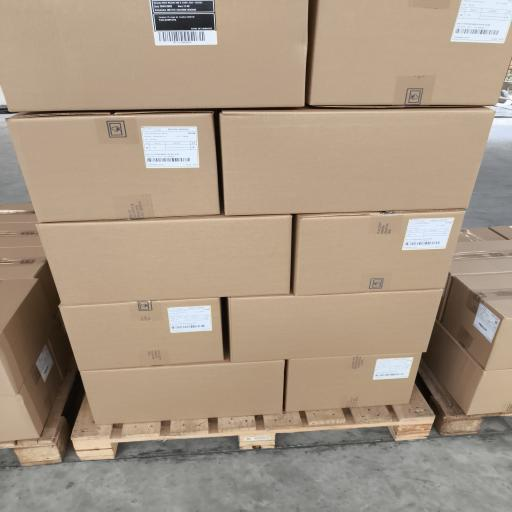pallet: (71, 386, 435, 460), (0, 359, 77, 466), (419, 360, 511, 435)
